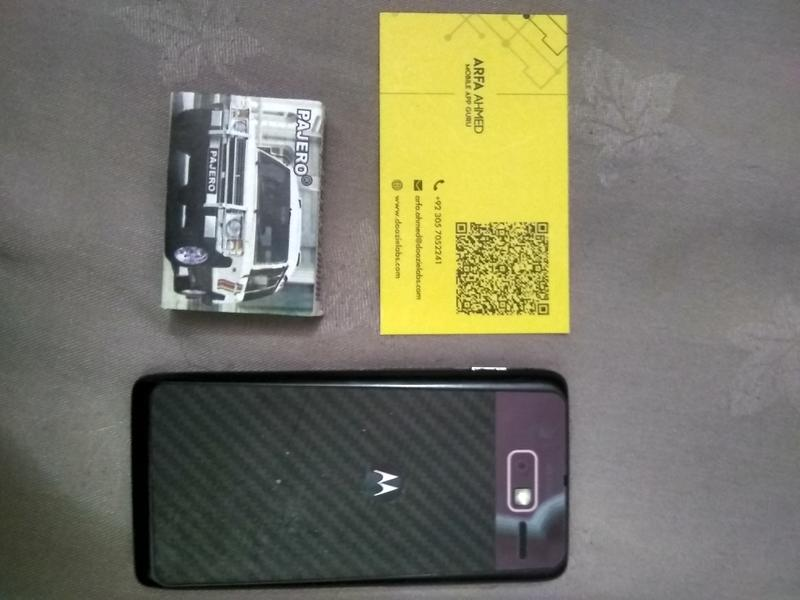front: (376, 9, 575, 337)
moto: (128, 365, 576, 583)
pajero: (159, 88, 328, 321)
